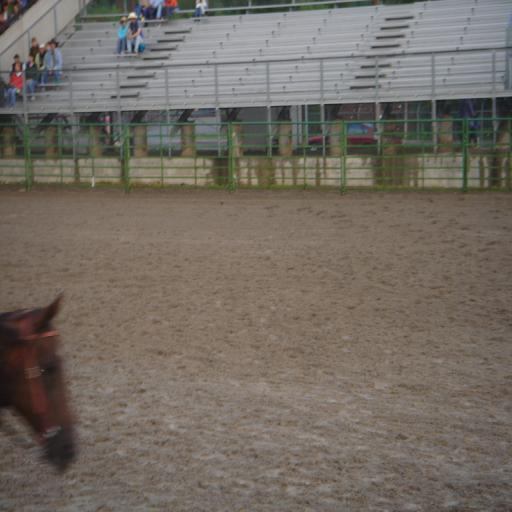horse: (0, 291, 75, 474)
